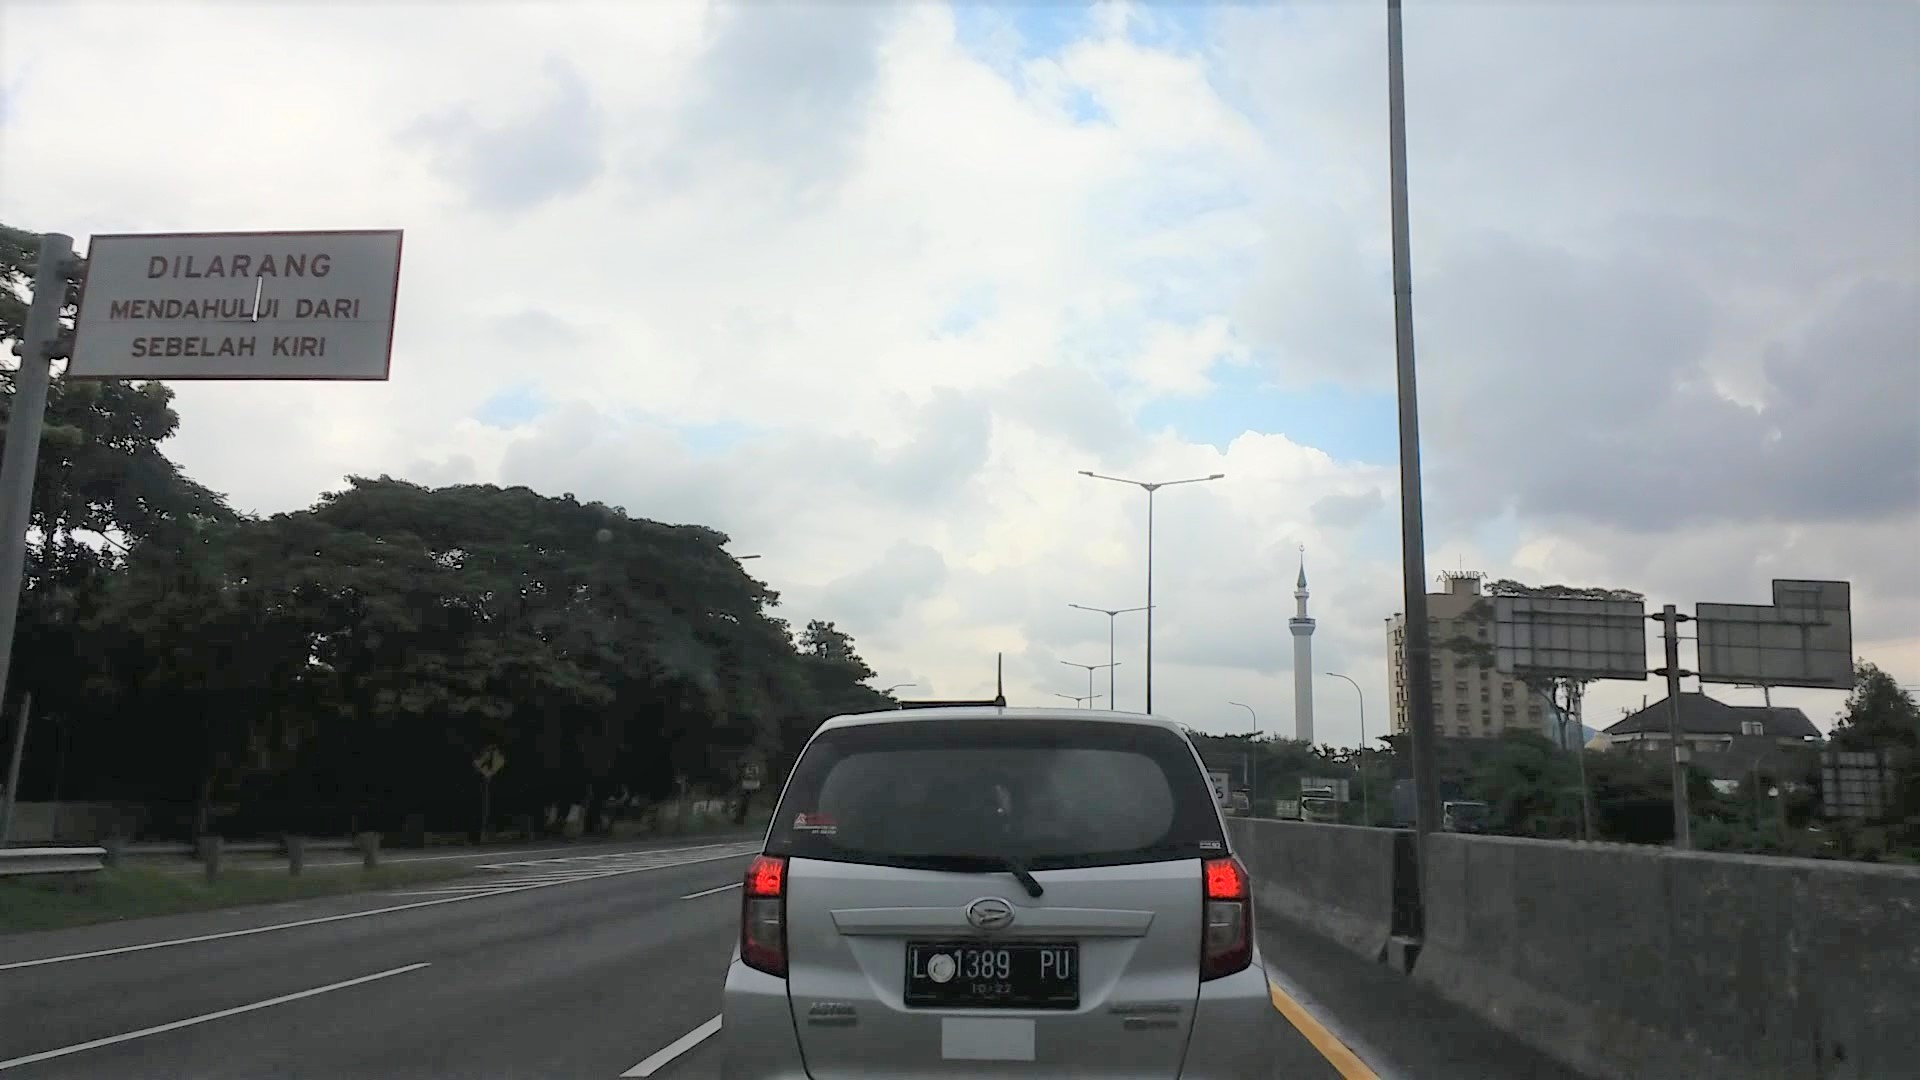plate_positive: (905, 939, 1081, 1009)
